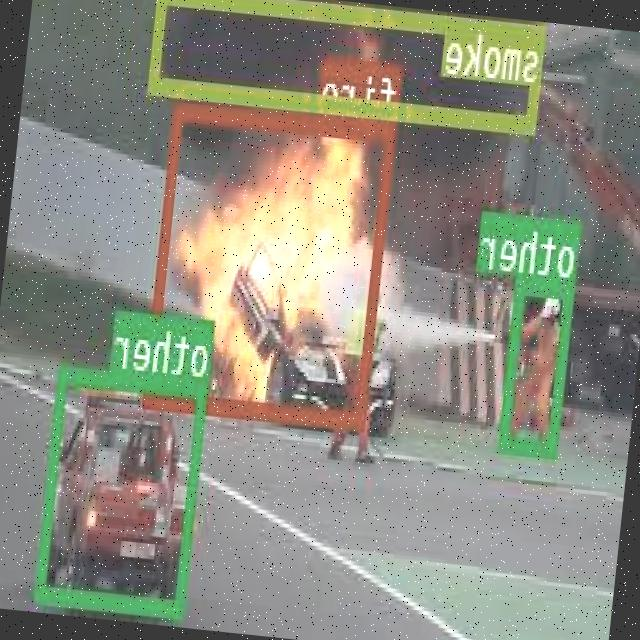fire: (146, 102, 396, 424)
smoke: (149, 0, 547, 129)
